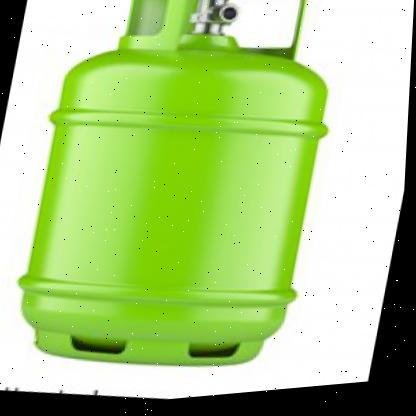gas-tank: (0, 0, 375, 409)
